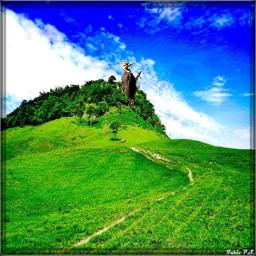Woodpecker: (120, 62, 142, 111)
